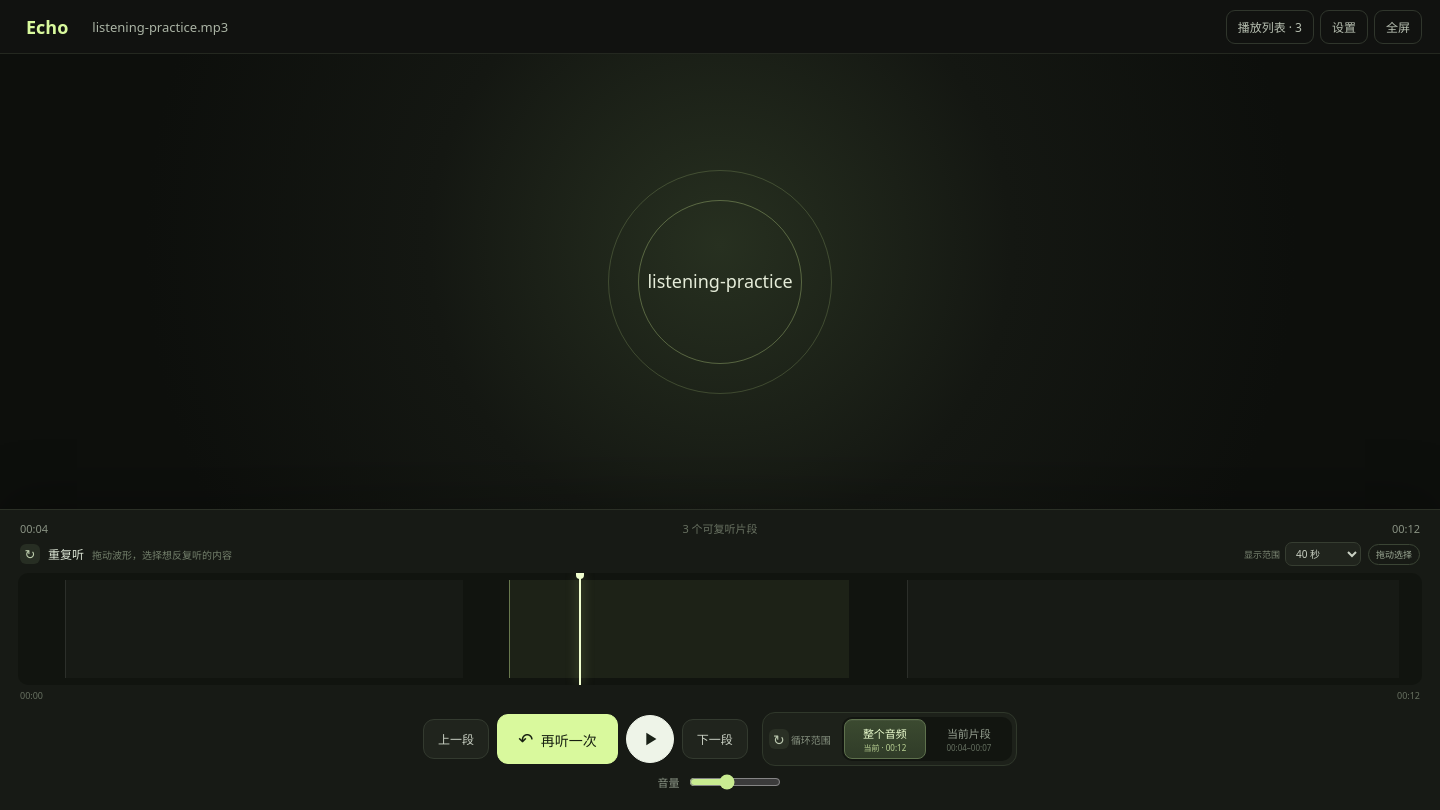
settings modal › loads older saved preferences with the default loop gap
What coordinates should you click on to do the following:
click the button "设置"
I would click on:
 (1344, 26)
Its box is [1320,10,1368,44].
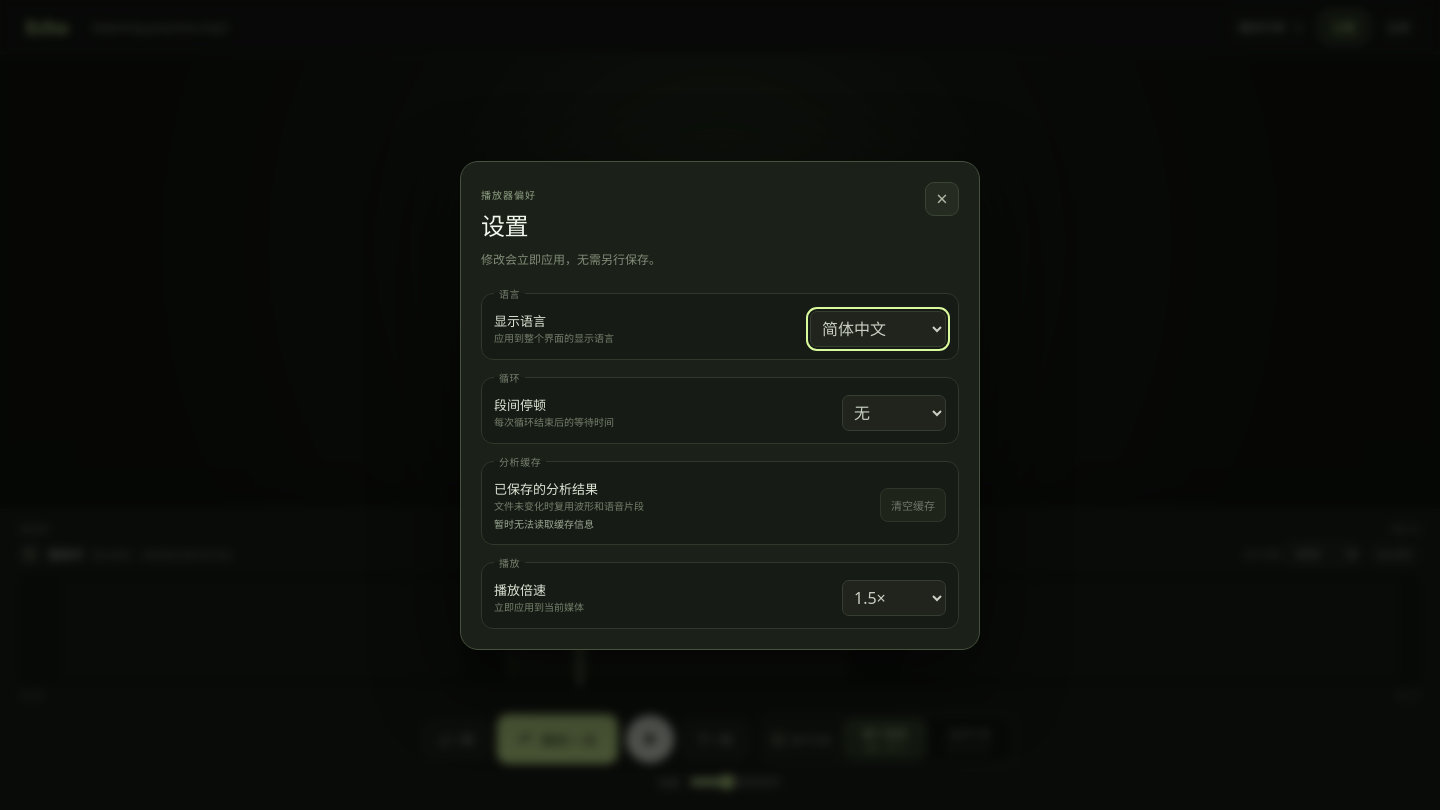
expect the dropdown labelled "段间停顿" shows "无": met, box [842,394,946,430]
